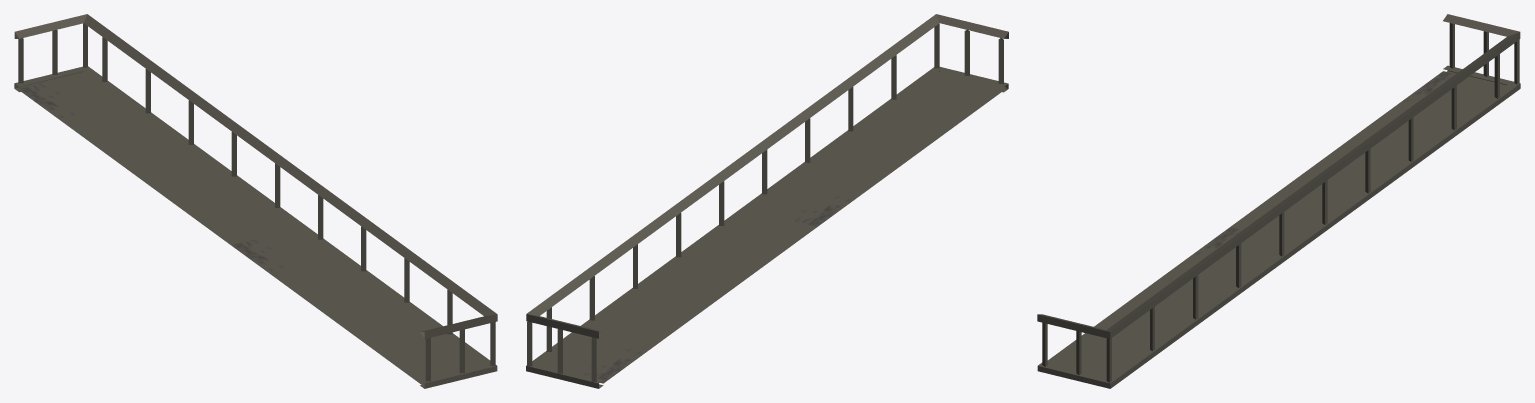
The model's file is railing.obj.
The picture shows the model from 3 angles, left to right: view 1: azimuth 30°, elevation 25°; view 2: azimuth 150°, elevation 25°; view 3: azimuth 330°, elevation 25°; orthographic projection.
Visible parts, largest first — view 1: railings; view 2: railings; view 3: railings.
Part boxes in pixels (x1=…): railings: x1=14, y1=14, x2=497, y2=388; railings: x1=526, y1=14, x2=1008, y2=388; railings: x1=1037, y1=14, x2=1520, y2=388.
Size of the model in its own units: 5.7 by 4.27 by 55.63.
